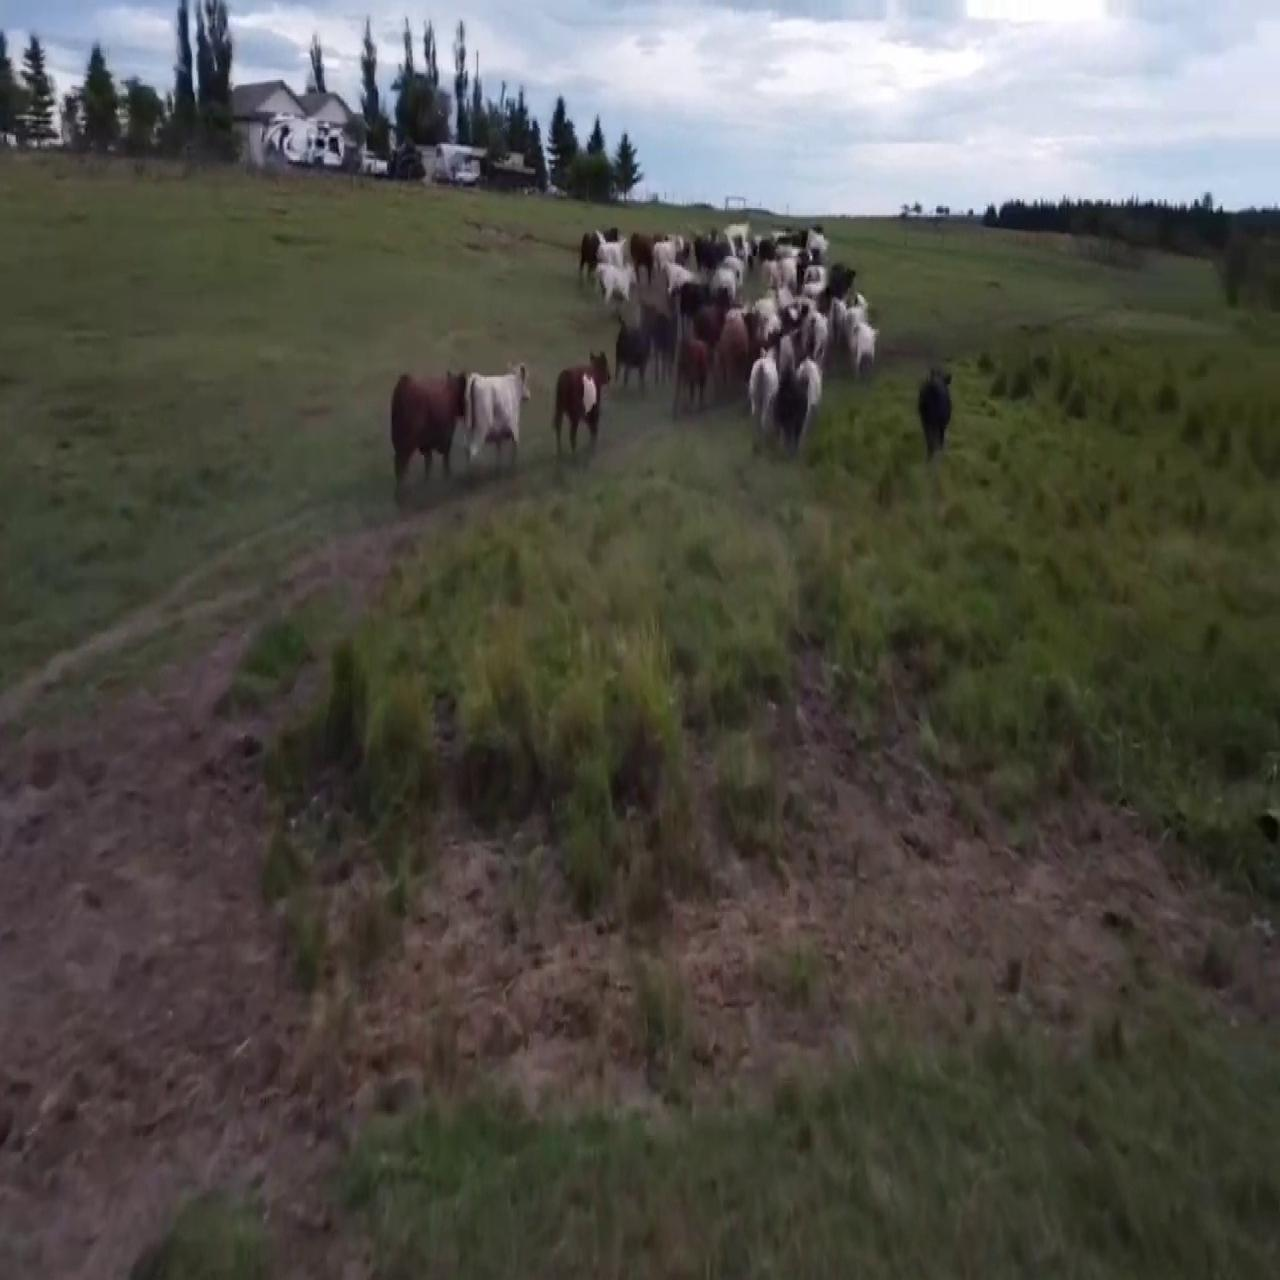cow: (381, 359, 469, 505), (457, 360, 531, 478), (546, 341, 608, 464), (665, 325, 721, 421), (915, 363, 955, 467), (594, 254, 640, 309), (747, 348, 776, 429)
